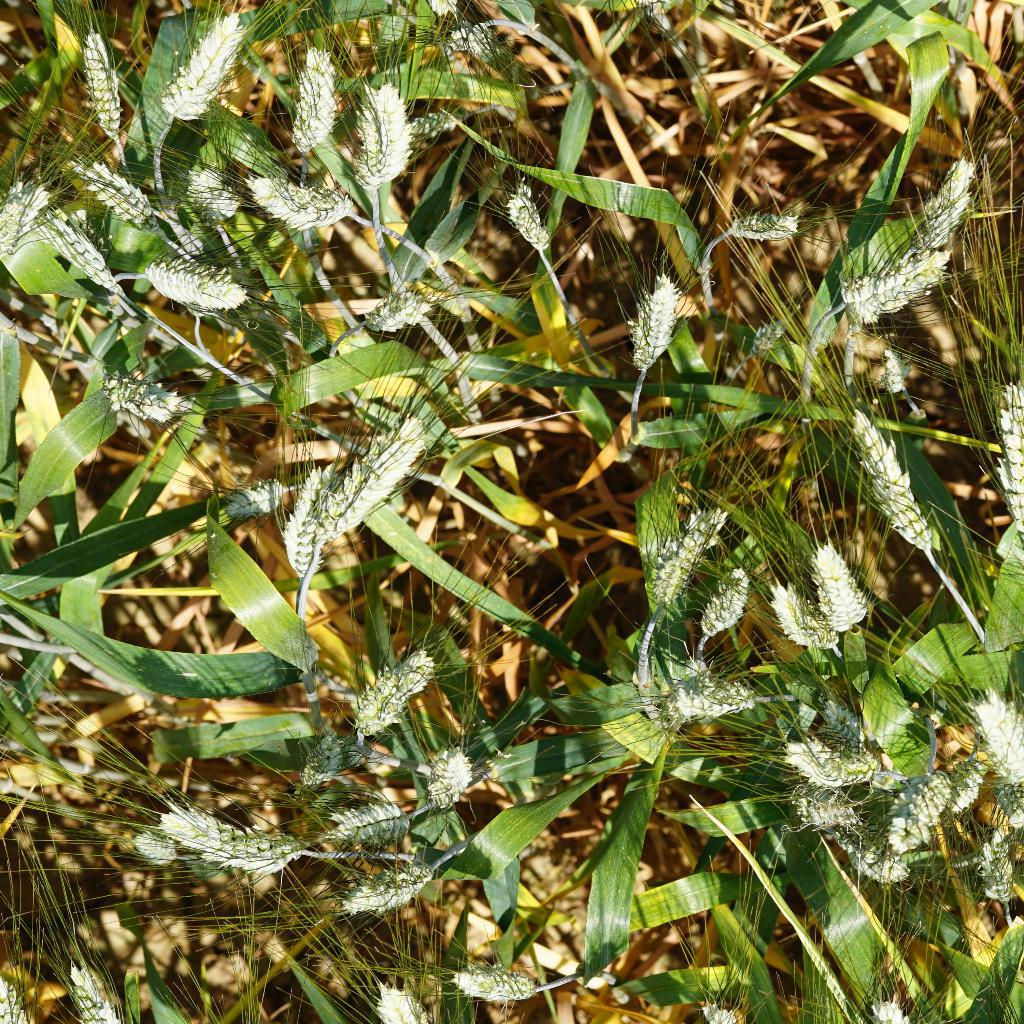0-0: (320, 397, 444, 556), (845, 407, 953, 560), (146, 10, 246, 126), (817, 242, 964, 317), (631, 505, 728, 617), (332, 646, 443, 735), (342, 67, 414, 200), (53, 149, 171, 230), (123, 254, 261, 318), (249, 165, 366, 235), (68, 17, 134, 141), (754, 565, 841, 653), (287, 38, 342, 169), (980, 375, 1022, 546), (960, 672, 1024, 784), (800, 534, 871, 631), (434, 953, 538, 1019), (50, 954, 146, 1024), (624, 271, 686, 378), (347, 281, 447, 347), (280, 453, 332, 576), (829, 826, 930, 889), (96, 358, 189, 426), (37, 209, 114, 291), (496, 176, 570, 261), (322, 778, 413, 847), (881, 757, 952, 845), (650, 676, 761, 731), (343, 860, 436, 922), (0, 174, 59, 269), (208, 822, 311, 870), (776, 781, 873, 830), (695, 560, 752, 643), (783, 742, 875, 793), (419, 742, 490, 808), (813, 690, 884, 755), (925, 153, 978, 240), (204, 455, 276, 518), (722, 201, 820, 245), (961, 838, 1020, 911), (362, 975, 449, 1024), (290, 721, 355, 784), (186, 164, 246, 232), (141, 784, 212, 841), (118, 814, 180, 870), (448, 14, 514, 63), (0, 974, 63, 1024), (401, 102, 479, 140), (945, 747, 985, 821), (859, 983, 930, 1024), (745, 308, 797, 360), (872, 344, 914, 400), (991, 780, 1024, 838)
